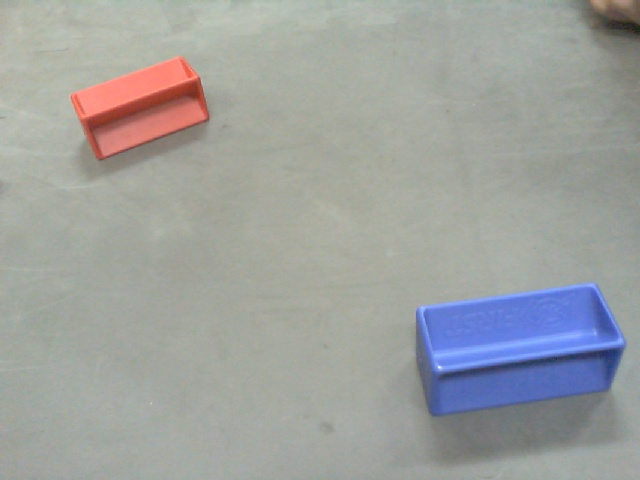BlueSample: (414, 285, 627, 418)
RedSample: (68, 54, 211, 163)
